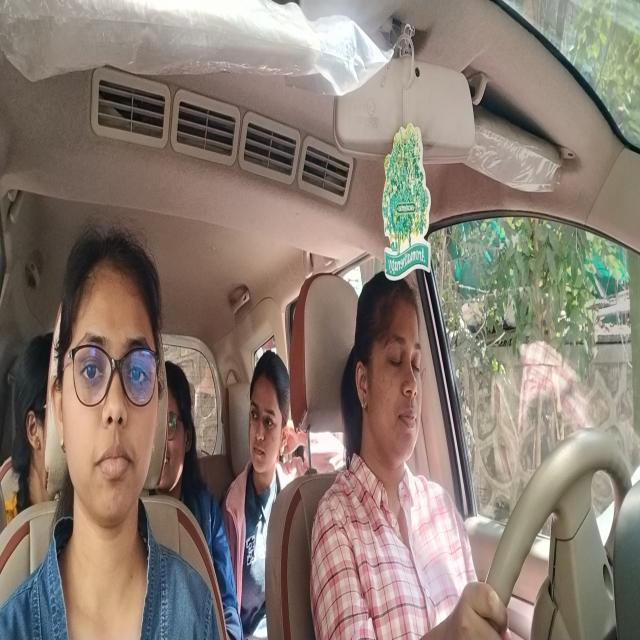drowsy: (354, 269, 426, 486)
person: (58, 224, 168, 554), (15, 326, 56, 502), (246, 354, 289, 486), (164, 347, 197, 498)
